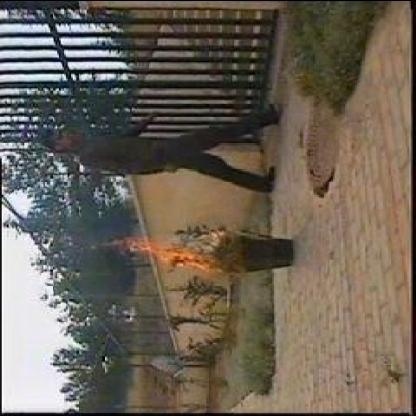foggia-v2-map80-epoch100 - v1 4323: (154, 247, 218, 272)
